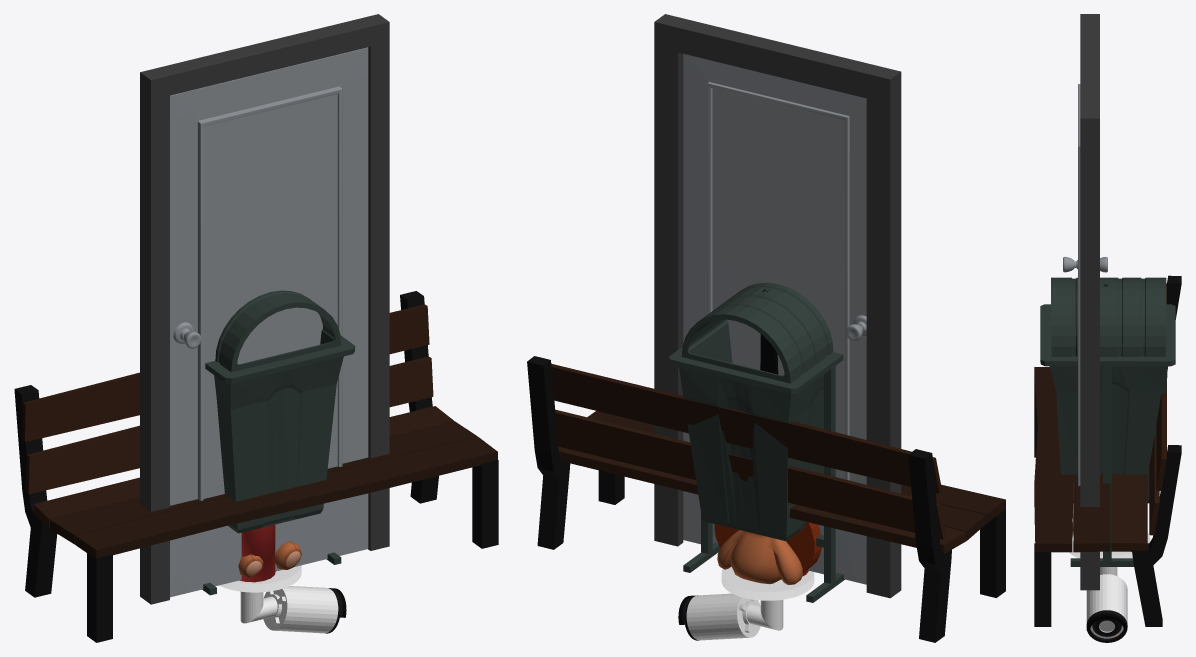
Rendered from props.glb.
3 views of the same model, side by side, from view 1: azimuth 30°, elevation 25°; view 2: azimuth 150°, elevation 25°; view 3: azimuth 270°, elevation 25° (orthographic). The views are drawn at different scales.
Visible parts, largest first — view 1: leaf, bench_01, frame, PR_Dustbin, Cylinder003, fire_extinguisher_c02, Cube001, Cylinder, Cylinder004; view 2: leaf, bench_01, frame, PR_Dustbin, Cube001, Cylinder003, guitarMesh, Cylinder, Cylinder004; view 3: PR_Dustbin, bench_01, frame, Cylinder003, leaf, Cylinder.
Part boxes in pixels (<box>): leaf: <box>170,47,368,597</box>; bench_01: <box>14,291,498,642</box>; frame: <box>140,14,389,604</box>; PR_Dustbin: <box>202,290,355,595</box>; Cylinder003: <box>263,586,346,633</box>; fire_extinguisher_c02: <box>239,524,275,582</box>; Cube001: <box>238,541,301,577</box>; Cylinder: <box>219,565,301,592</box>; Cylinder004: <box>240,591,277,623</box>; leaf: <box>683,54,866,584</box>; bench_01: <box>527,356,1005,642</box>; frame: <box>654,14,901,598</box>; PR_Dustbin: <box>669,282,844,602</box>; Cube001: <box>717,530,802,584</box>; Cylinder003: <box>678,593,760,640</box>; guitarMesh: <box>714,289,821,572</box>; Cylinder: <box>721,566,814,600</box>; Cylinder004: <box>746,599,783,630</box>; PR_Dustbin: <box>1040,277,1175,566</box>; bench_01: <box>1034,275,1181,626</box>; frame: <box>1080,14,1099,590</box>; Cylinder003: <box>1086,574,1127,642</box>; leaf: <box>1063,84,1107,485</box>; Cylinder: <box>1069,532,1150,558</box>.
Size of the model in its own units: 1.5 by 2.15 by 0.5244.
32 materials, 1 textured.
